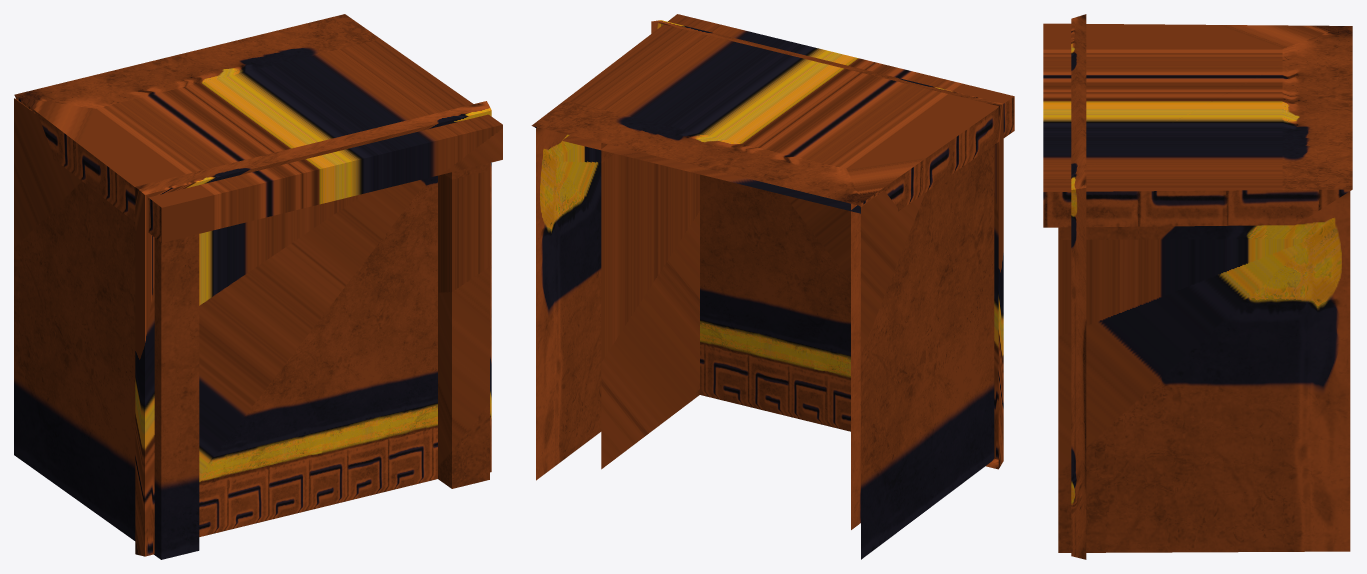
The model's file is DoorBig.fbx.
3 views of the same model, side by side, from view 1: azimuth 30°, elevation 25°; view 2: azimuth 150°, elevation 25°; view 3: azimuth 270°, elevation 25° (orthographic). The views are drawn at different scales.
Parts seen in each view (by area): view 1: FrameLow.002, DoorLow.002; view 2: FrameLow.002, DoorLow.002; view 3: FrameLow.002.
Boxes of the visible parts, x1,y1,x2,y2 form: FrameLow.002: (14,14,502,559); DoorLow.002: (199,175,437,536); FrameLow.002: (531,14,1014,559); DoorLow.002: (700,174,850,431); FrameLow.002: (1043,14,1352,559).
Bounding box in the file's own units: 454 × 453 × 342.
